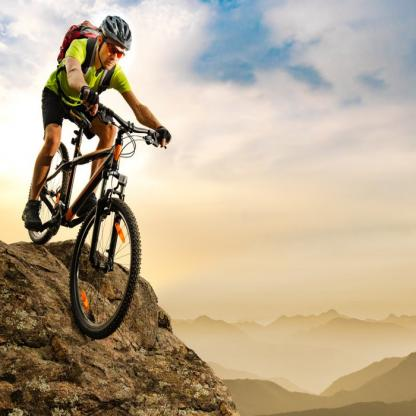Bike: (24, 105, 164, 336)
